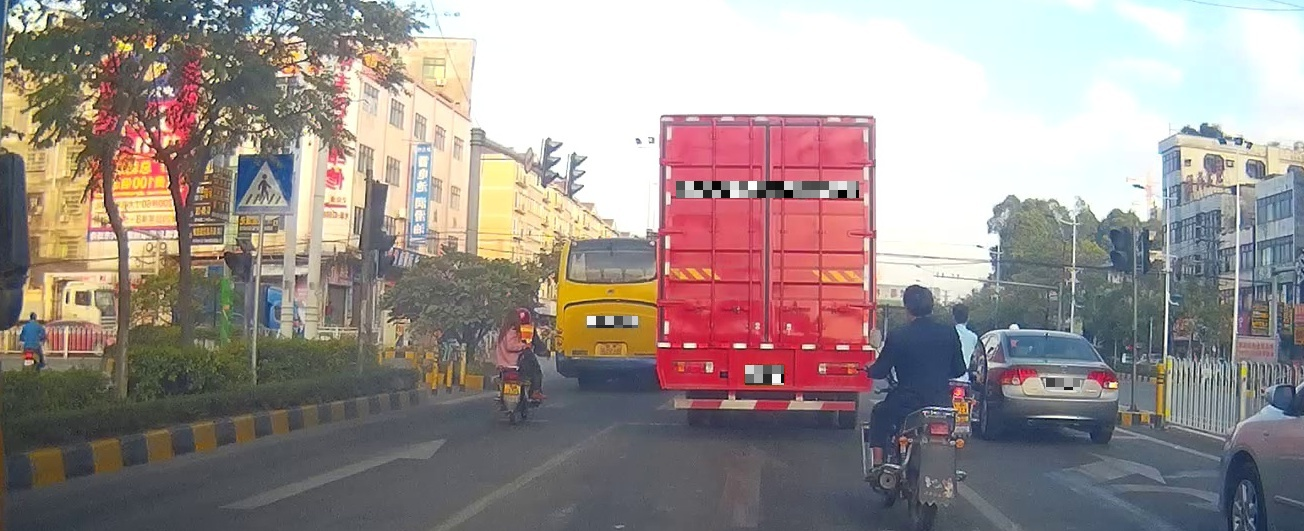L_light: (1000, 367, 1039, 385), (671, 361, 714, 373)
R_light: (1086, 370, 1118, 389), (818, 363, 860, 375)
T_light: (752, 125, 782, 134), (1039, 335, 1058, 340)
day-no: (654, 114, 877, 429)
day-right: (978, 329, 1120, 444)
plate_1: (587, 316, 638, 328)
plate_2: (676, 181, 859, 198)
plate_3: (745, 365, 784, 385)
plate_4: (1046, 378, 1080, 390)
